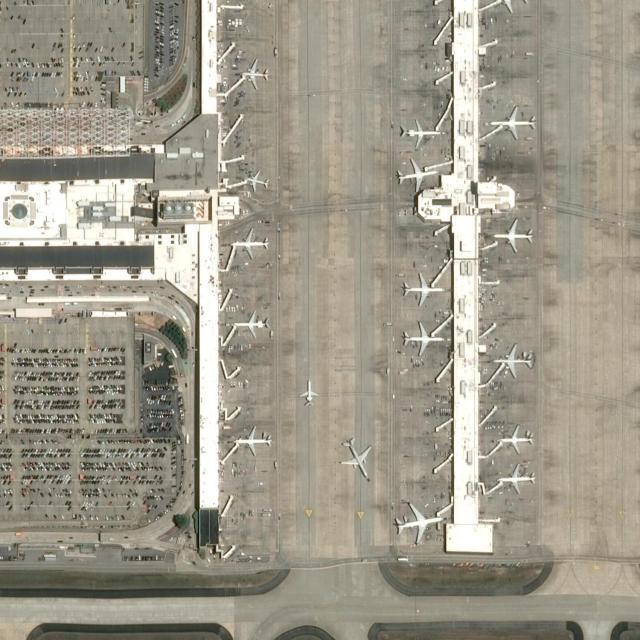Aircraft: (390, 501, 442, 541), (396, 317, 448, 357), (335, 436, 375, 481), (398, 272, 447, 306), (490, 104, 538, 138), (491, 343, 536, 379), (490, 216, 536, 251), (393, 156, 436, 192), (494, 463, 536, 495), (497, 422, 535, 457), (230, 310, 271, 342), (398, 119, 444, 147), (230, 229, 272, 259), (232, 426, 272, 455), (240, 58, 271, 90), (242, 169, 271, 191), (486, 0, 530, 12), (298, 381, 319, 405)
